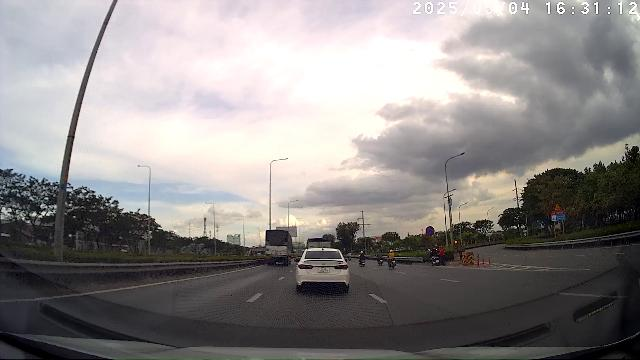130-cam-dung-va-do-xe: (425, 226, 435, 236)
